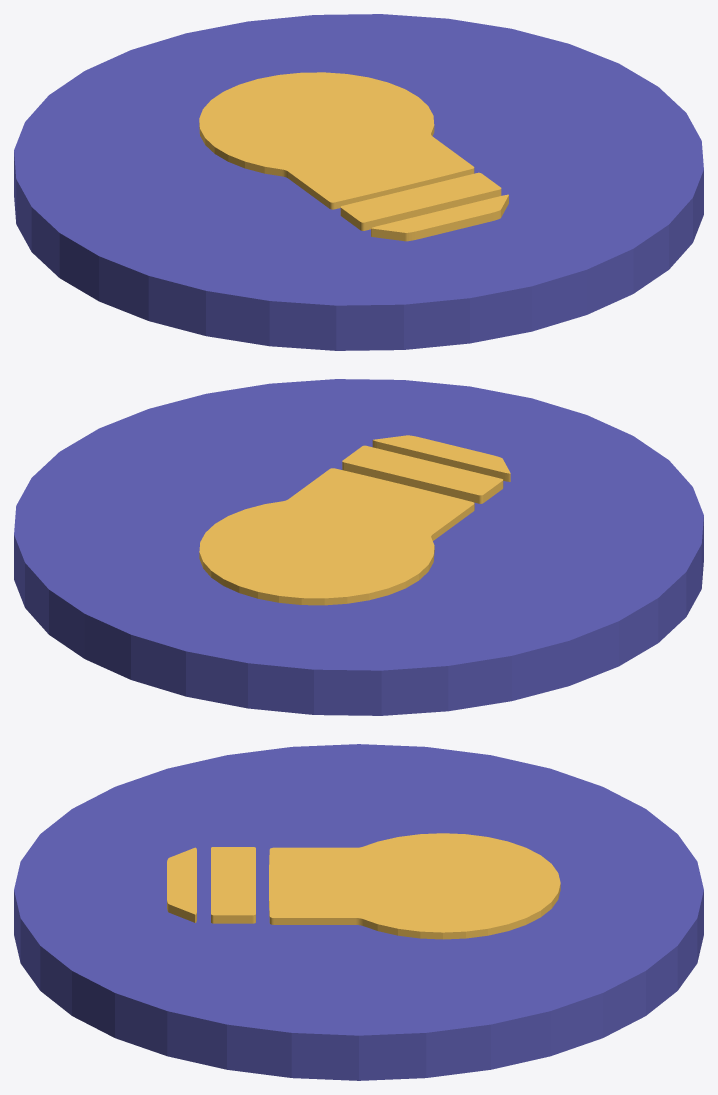
Rendered from interface_v01.glb.
The picture shows the model from 3 angles, top to bottom: view 1: azimuth 30°, elevation 25°; view 2: azimuth 150°, elevation 25°; view 3: azimuth 270°, elevation 25°; orthographic projection.
Visible parts, largest first — view 1: Skrivebord; view 2: Skrivebord; view 3: Skrivebord.
Boxes of the visible parts, x1,y1,x2,y2 form: Skrivebord: (14, 14, 703, 350); Skrivebord: (14, 379, 703, 715); Skrivebord: (14, 744, 703, 1080).
Size of the model in its own units: 1.11 by 0.0948 by 1.11.
1 material, 1 textured.
